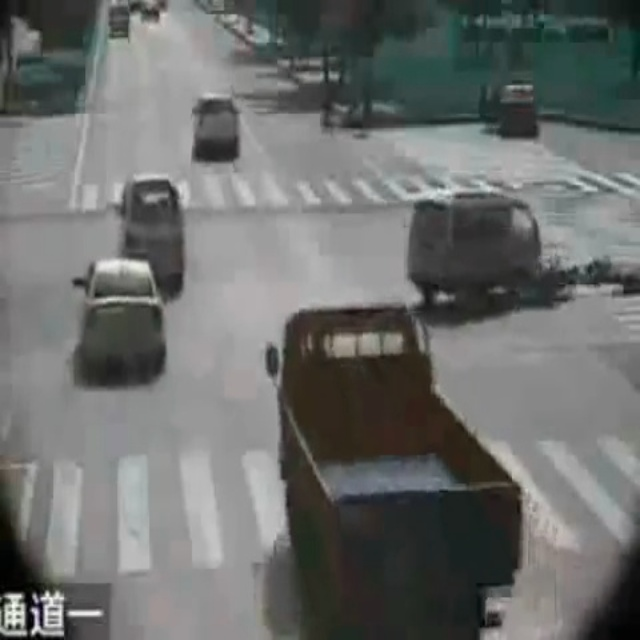acc: (402, 186, 639, 310)
